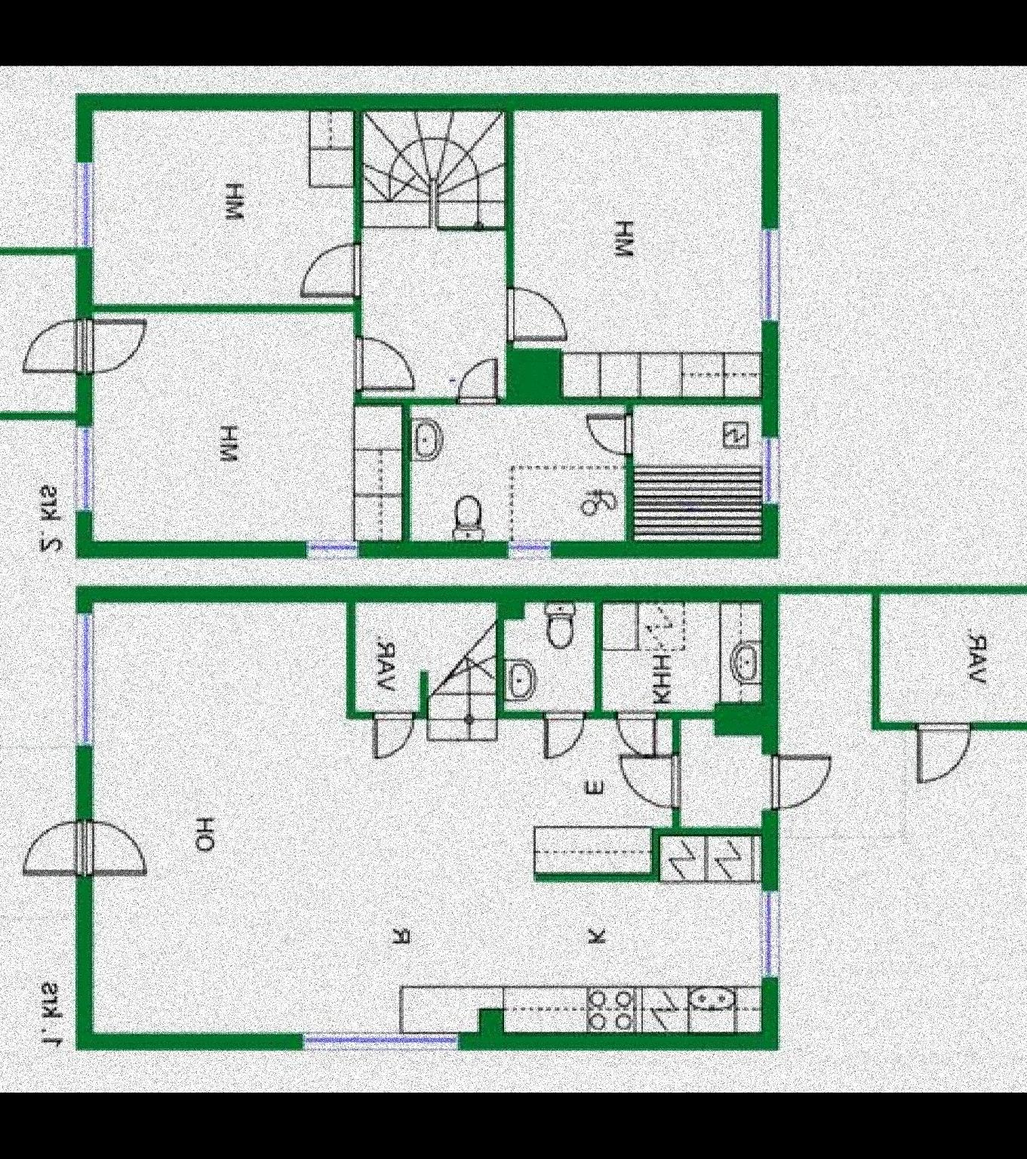door: (19, 815, 151, 879), (23, 317, 153, 381), (755, 739, 836, 813), (910, 718, 978, 796), (346, 337, 412, 395), (501, 280, 560, 344), (603, 714, 669, 771), (301, 244, 360, 300), (617, 756, 683, 805), (371, 710, 422, 762), (534, 716, 588, 765), (453, 350, 493, 407), (580, 412, 625, 455)
window: (68, 615, 96, 751), (302, 1031, 452, 1051), (759, 892, 782, 978), (74, 163, 97, 248), (759, 229, 778, 320), (74, 426, 91, 511), (306, 540, 358, 566), (765, 432, 782, 505), (504, 542, 550, 561)
zone: (87, 600, 764, 1032), (504, 113, 763, 389), (89, 318, 351, 537), (87, 113, 348, 304), (357, 109, 505, 403), (402, 411, 625, 544), (878, 596, 1027, 720), (600, 603, 763, 716), (630, 405, 762, 542), (350, 600, 494, 712), (0, 252, 81, 410), (501, 594, 594, 713), (679, 720, 764, 821)
